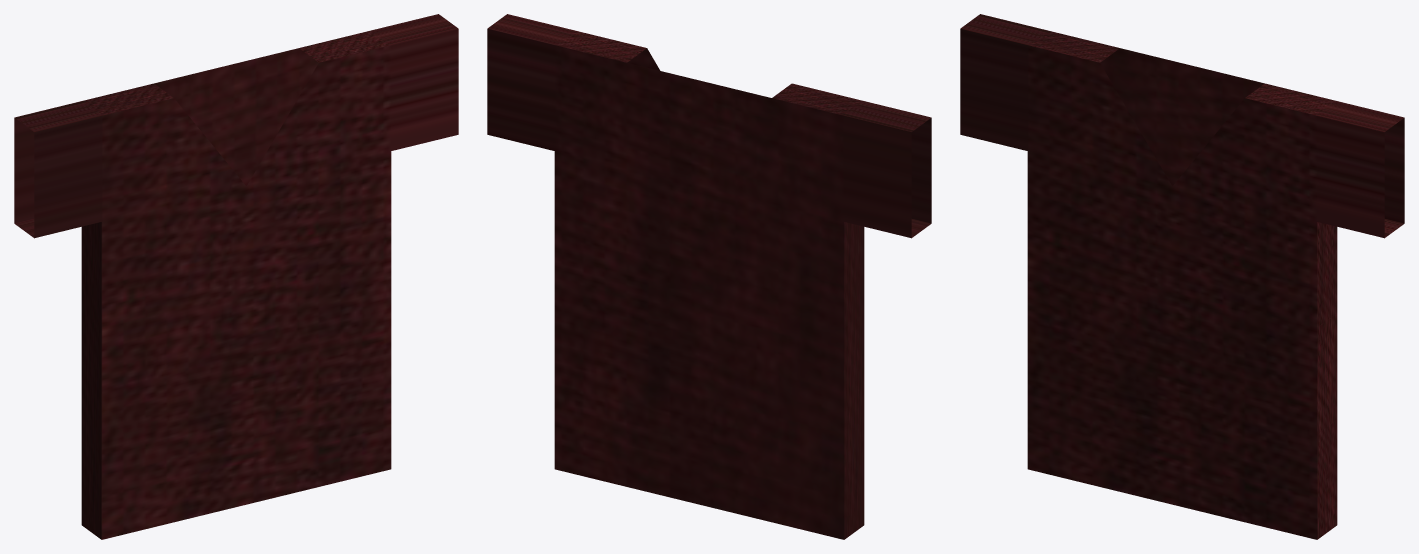
Rendered from shirt.glb.
3 renders of one model, left to right at view 1: azimuth 30°, elevation 25°; view 2: azimuth 150°, elevation 25°; view 3: azimuth 330°, elevation 25°, orthographic.
Visible parts, largest first — view 1: Cube; view 2: Cube; view 3: Cube.
Boxes of the visible parts, <box> form: Cube: <box>14,14,458,539</box>; Cube: <box>487,14,931,539</box>; Cube: <box>960,14,1404,539</box>.
Size of the model in its own units: 0.7978 by 0.7619 by 0.0653.
Materials: 1 (1 with a texture image).
